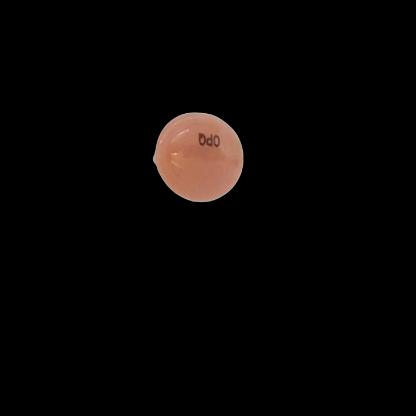opiqutan: (136, 88, 262, 230)
